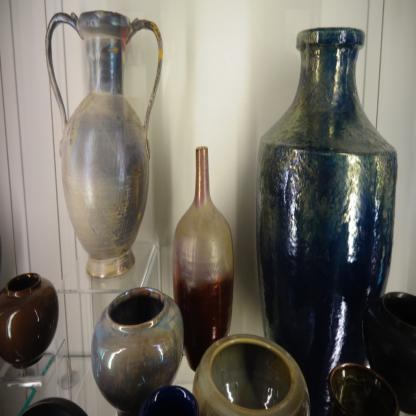vase: (257, 25, 400, 416), (46, 13, 164, 276), (172, 142, 234, 373), (90, 286, 184, 416), (192, 328, 309, 415), (358, 285, 416, 415), (0, 270, 59, 369), (330, 359, 399, 415), (150, 382, 198, 416)
